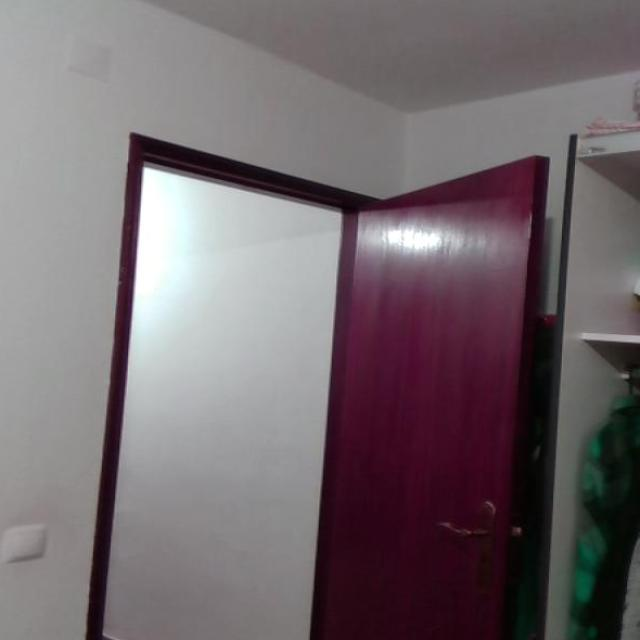Door: (308, 133, 553, 640)
